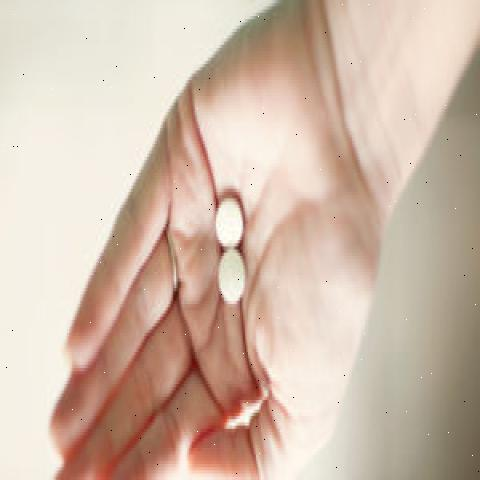Pill: (206, 250, 253, 322), (205, 189, 248, 249)
